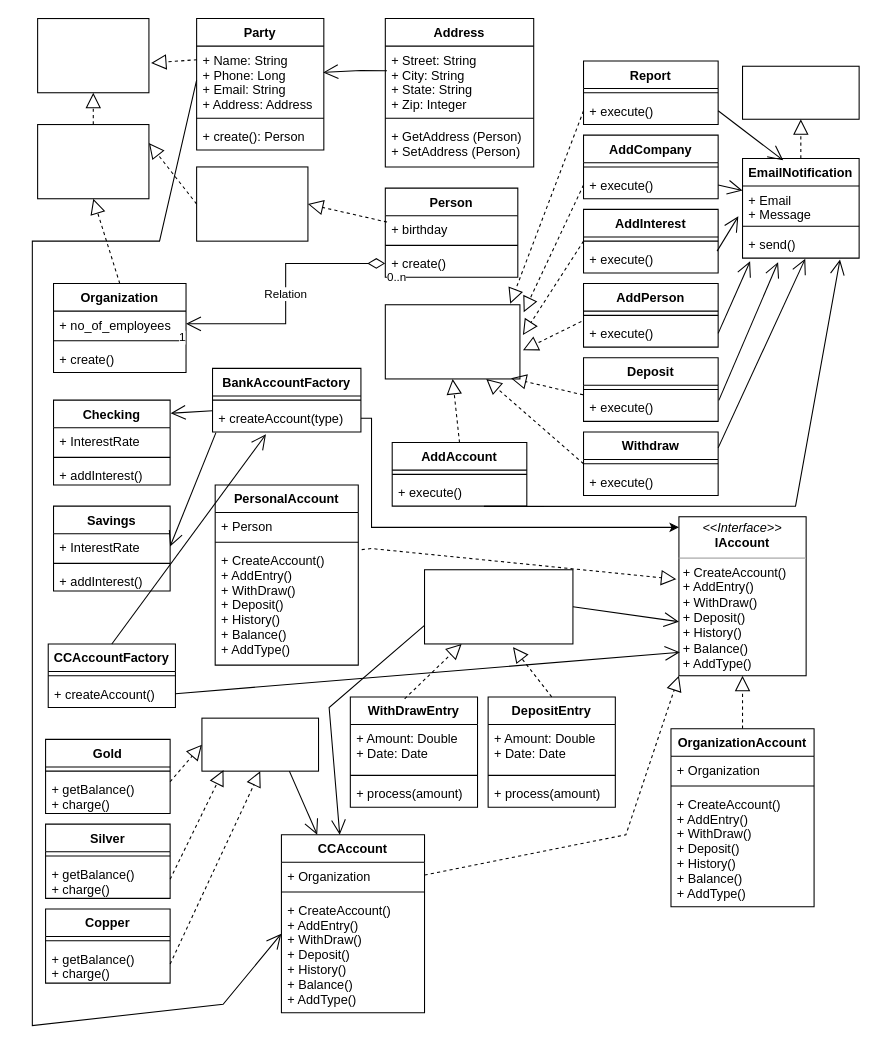
Some shapes in this 878 by 1059 pixel diagram are drawn without their labels. The shapes that lost their labels are listed below. From the top down, each one's centre as x and y in pixels, then its label:
point (93, 55): <<Interface>> IParty + create()
point (800, 92): «interface» INotification
point (93, 161): <<Interface>> IOrganization + create()
point (252, 203): <<Interface>> IPerson + create()
point (452, 341): <<Interface>> IOperation + execute()
point (498, 606): <<Interface>> IEntry + process(amount)
point (260, 744): «interface» CreditCardType
